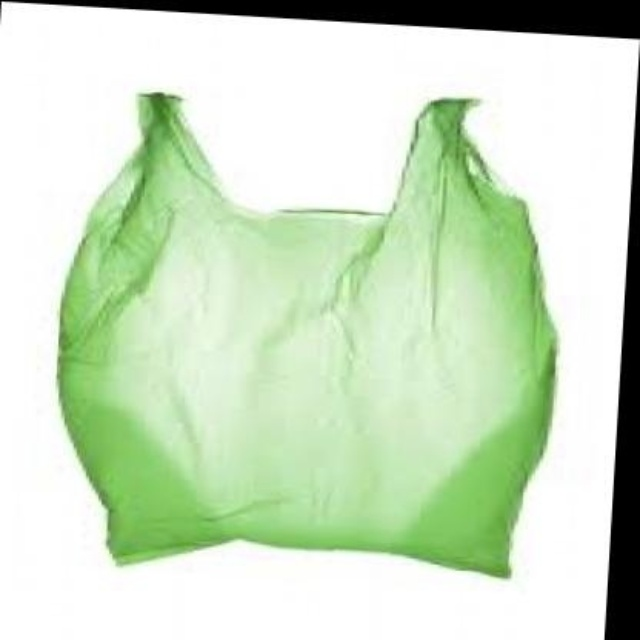trash: (58, 94, 554, 575)
